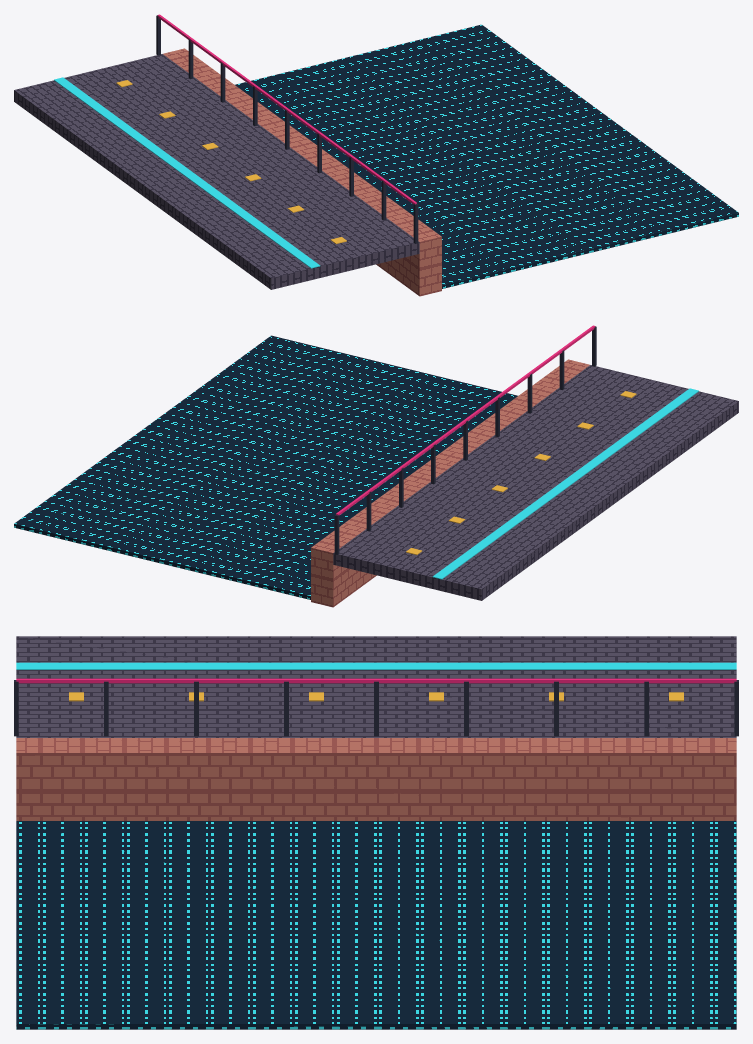
File: pf_quai.glb
3 views of the same model, one above another, from view 1: azimuth 30°, elevation 25°; view 2: azimuth 150°, elevation 25°; view 3: azimuth 270°, elevation 25° (orthographic). The views are drawn at different scales.
Parts seen in each view (by area): view 1: p_box.1391, p_box.1372, p_box.1390, p_box.1373, p_box.1389; view 2: p_box.1391, p_box.1372, p_box.1390, p_box.1373, p_box.1389; view 3: p_box.1391, p_box.1372, p_box.1390, p_box.1373, p_box.1389.
Boxes of the visible parts, x1,y1,x2,y2 form: p_box.1391: [235, 24, 738, 288]; p_box.1372: [14, 54, 419, 289]; p_box.1390: [163, 48, 441, 296]; p_box.1373: [54, 77, 320, 268]; p_box.1389: [157, 14, 416, 204]; p_box.1391: [14, 335, 517, 599]; p_box.1372: [333, 365, 738, 600]; p_box.1390: [311, 359, 589, 607]; p_box.1373: [432, 388, 698, 579]; p_box.1389: [336, 325, 595, 515]; p_box.1391: [16, 821, 736, 1029]; p_box.1372: [16, 636, 736, 737]; p_box.1390: [16, 738, 736, 820]; p_box.1373: [16, 662, 736, 669]; p_box.1389: [16, 678, 736, 683].
Bounding box in the file's own units: 12.6 × 2.43 × 12.08.
7 materials, 3 textured.
